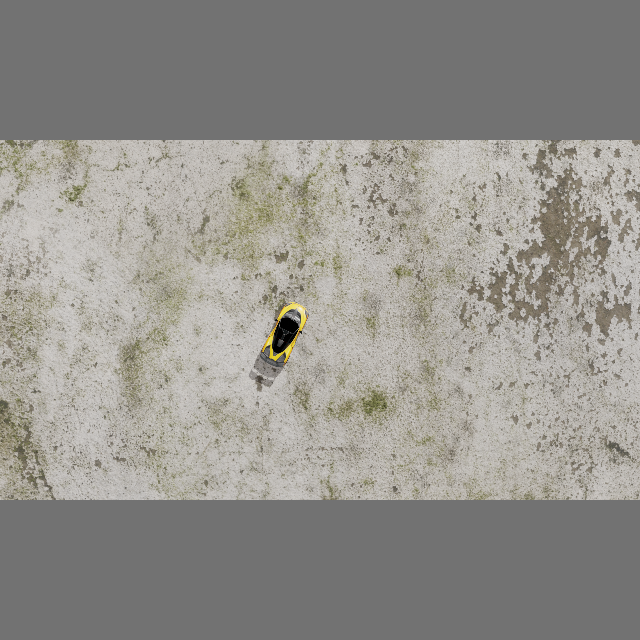car: (256, 297, 313, 372)
